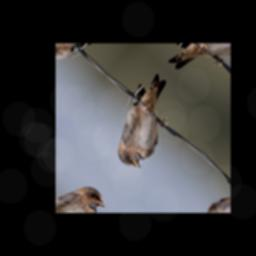Swallow: (91, 69, 197, 175)
